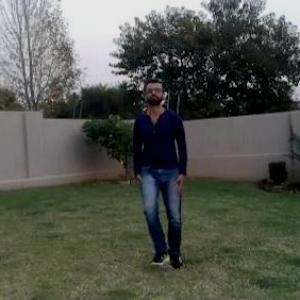follow: (134, 74, 188, 260)
